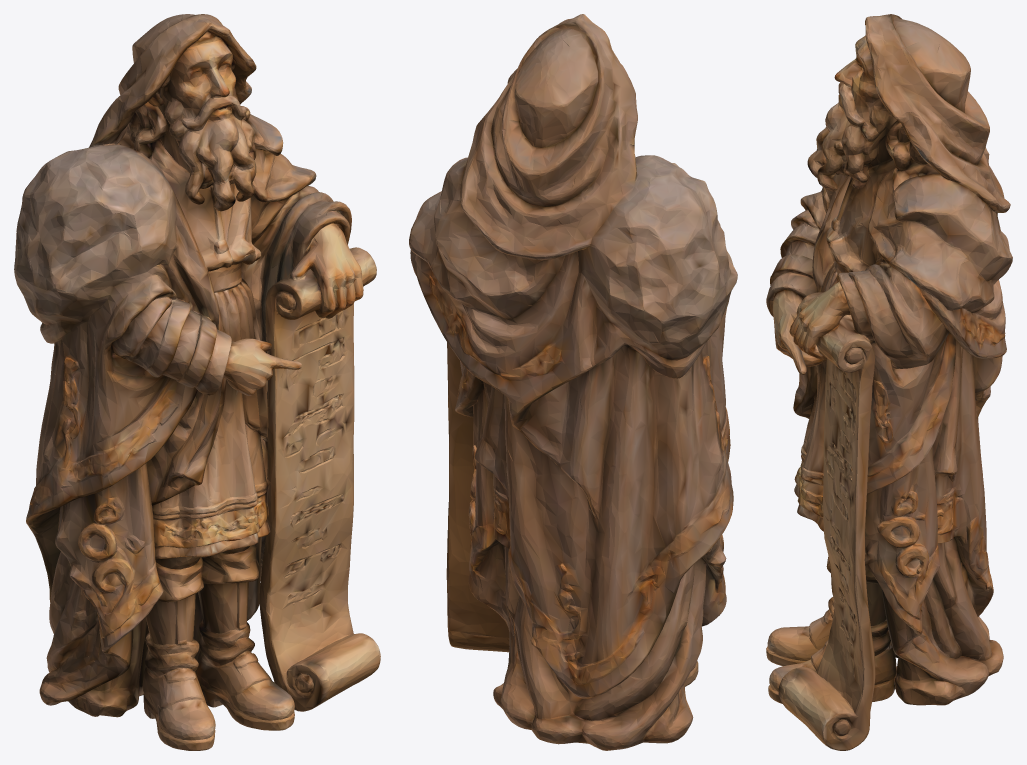
File: isaias.glb
3 views of the same model, side by side, from view 1: azimuth 30°, elevation 25°; view 2: azimuth 150°, elevation 25°; view 3: azimuth 270°, elevation 25° (orthographic).
Parts seen in each view (by area): view 1: world; view 2: world; view 3: world.
Part boxes in pixels (x1,y1,x2,y2): world: (14,14,380,750); world: (409,14,737,750); world: (766,14,1012,750).
Bounding box in the file's own units: 0.9644 × 1.99 × 0.6648.
